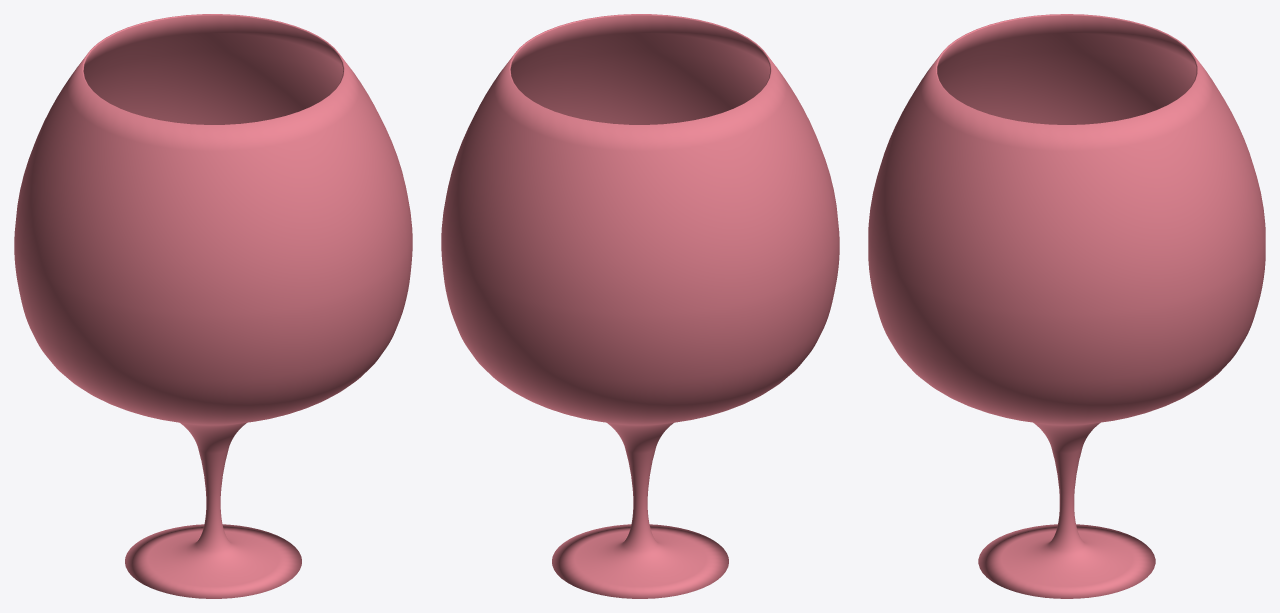
Rendered from Collection_5.fbx.
3 renders of one model, left to right at view 1: azimuth 30°, elevation 25°; view 2: azimuth 150°, elevation 25°; view 3: azimuth 270°, elevation 25°, orthographic.
Visible parts, largest first — view 1: KitchenGlasses.005; view 2: KitchenGlasses.005; view 3: KitchenGlasses.005.
Boxes of the visible parts, x1,y1,x2,y2 form: KitchenGlasses.005: [14, 14, 412, 598]; KitchenGlasses.005: [441, 14, 839, 598]; KitchenGlasses.005: [868, 14, 1265, 598].
Bounding box in the file's own units: 0.1575 × 0.2147 × 0.1572.
